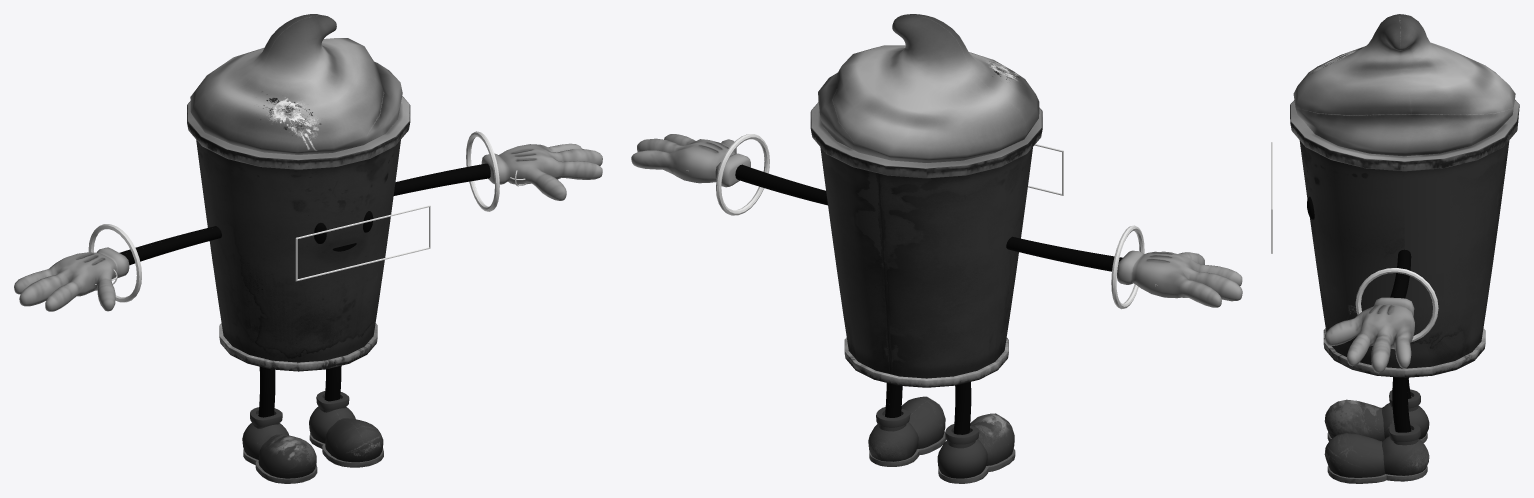
File: Frosty.fbx
The picture shows the model from 3 angles, left to right: view 1: azimuth 30°, elevation 25°; view 2: azimuth 150°, elevation 25°; view 3: azimuth 270°, elevation 25°; orthographic projection. The views are drawn at different scales.
Visible parts, largest first — view 1: Frosty, Ctrl_L_Arm, Ctrl_Eye_Frame, Ctrl_R_Arm; view 2: Frosty, Ctrl_L_Arm, Ctrl_R_Arm; view 3: Frosty, Ctrl_L_Arm.
Boxes of the visible parts, box(x1,y1,x2,y2) form: Frosty: box(14, 14, 602, 483); Ctrl_L_Arm: box(466, 131, 499, 211); Ctrl_Eye_Frame: box(295, 205, 430, 281); Ctrl_R_Arm: box(88, 224, 141, 302); Frosty: box(631, 14, 1242, 483); Ctrl_L_Arm: box(716, 134, 769, 215); Ctrl_R_Arm: box(1111, 225, 1144, 309); Frosty: box(1290, 14, 1519, 483); Ctrl_L_Arm: box(1355, 268, 1438, 341).
Size of the model in its own units: 248 by 175 by 89.58.
